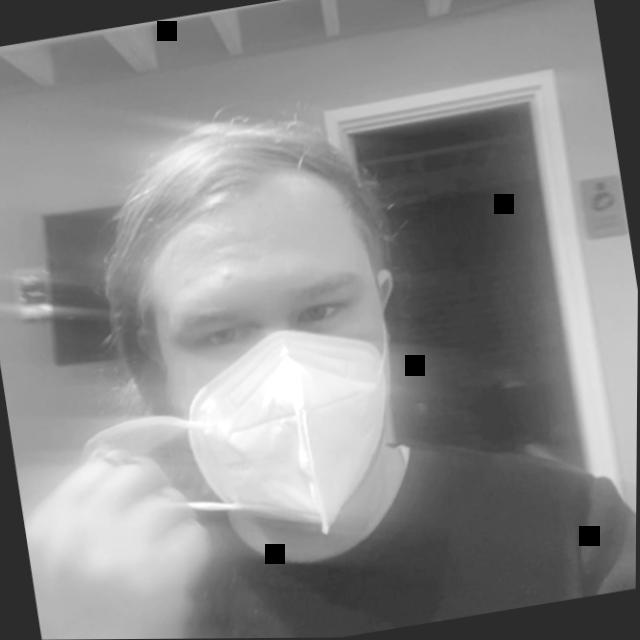Mask: (79, 87, 437, 589)
